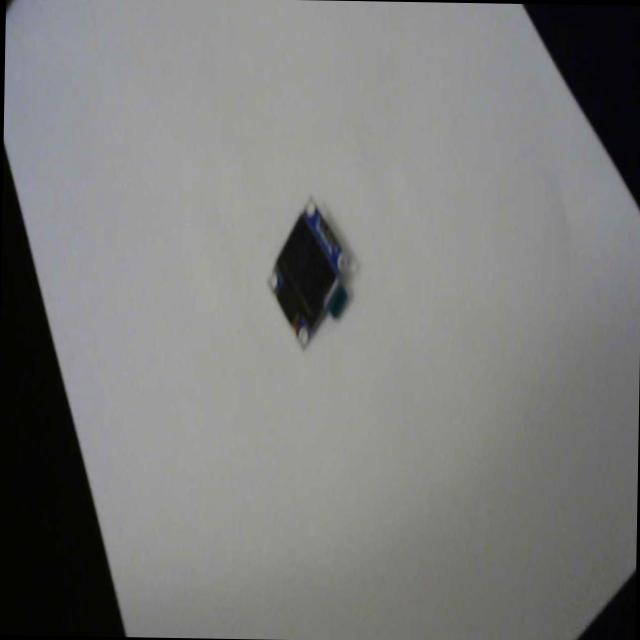oled: (266, 189, 358, 360)
